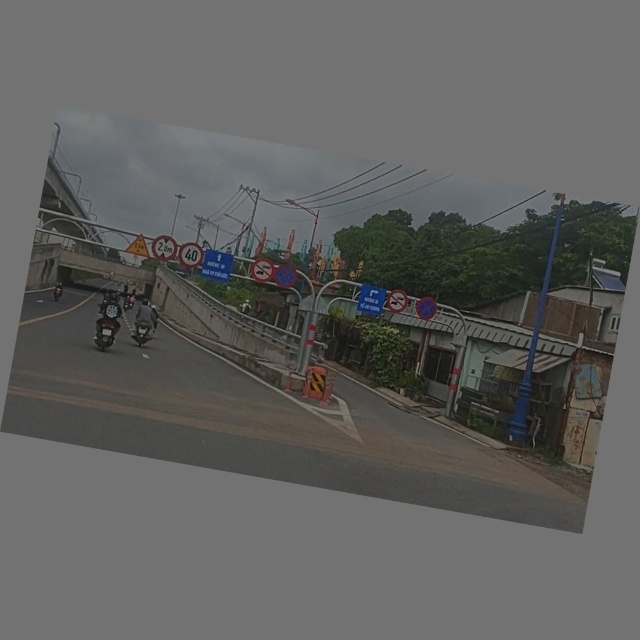P.107: (249, 256, 276, 286), (386, 290, 410, 316)
P.117*: (149, 234, 181, 264)
P.127*40: (177, 241, 206, 271)
P.130: (273, 262, 300, 290), (414, 294, 439, 324)
W.239b*: (124, 232, 153, 260)
